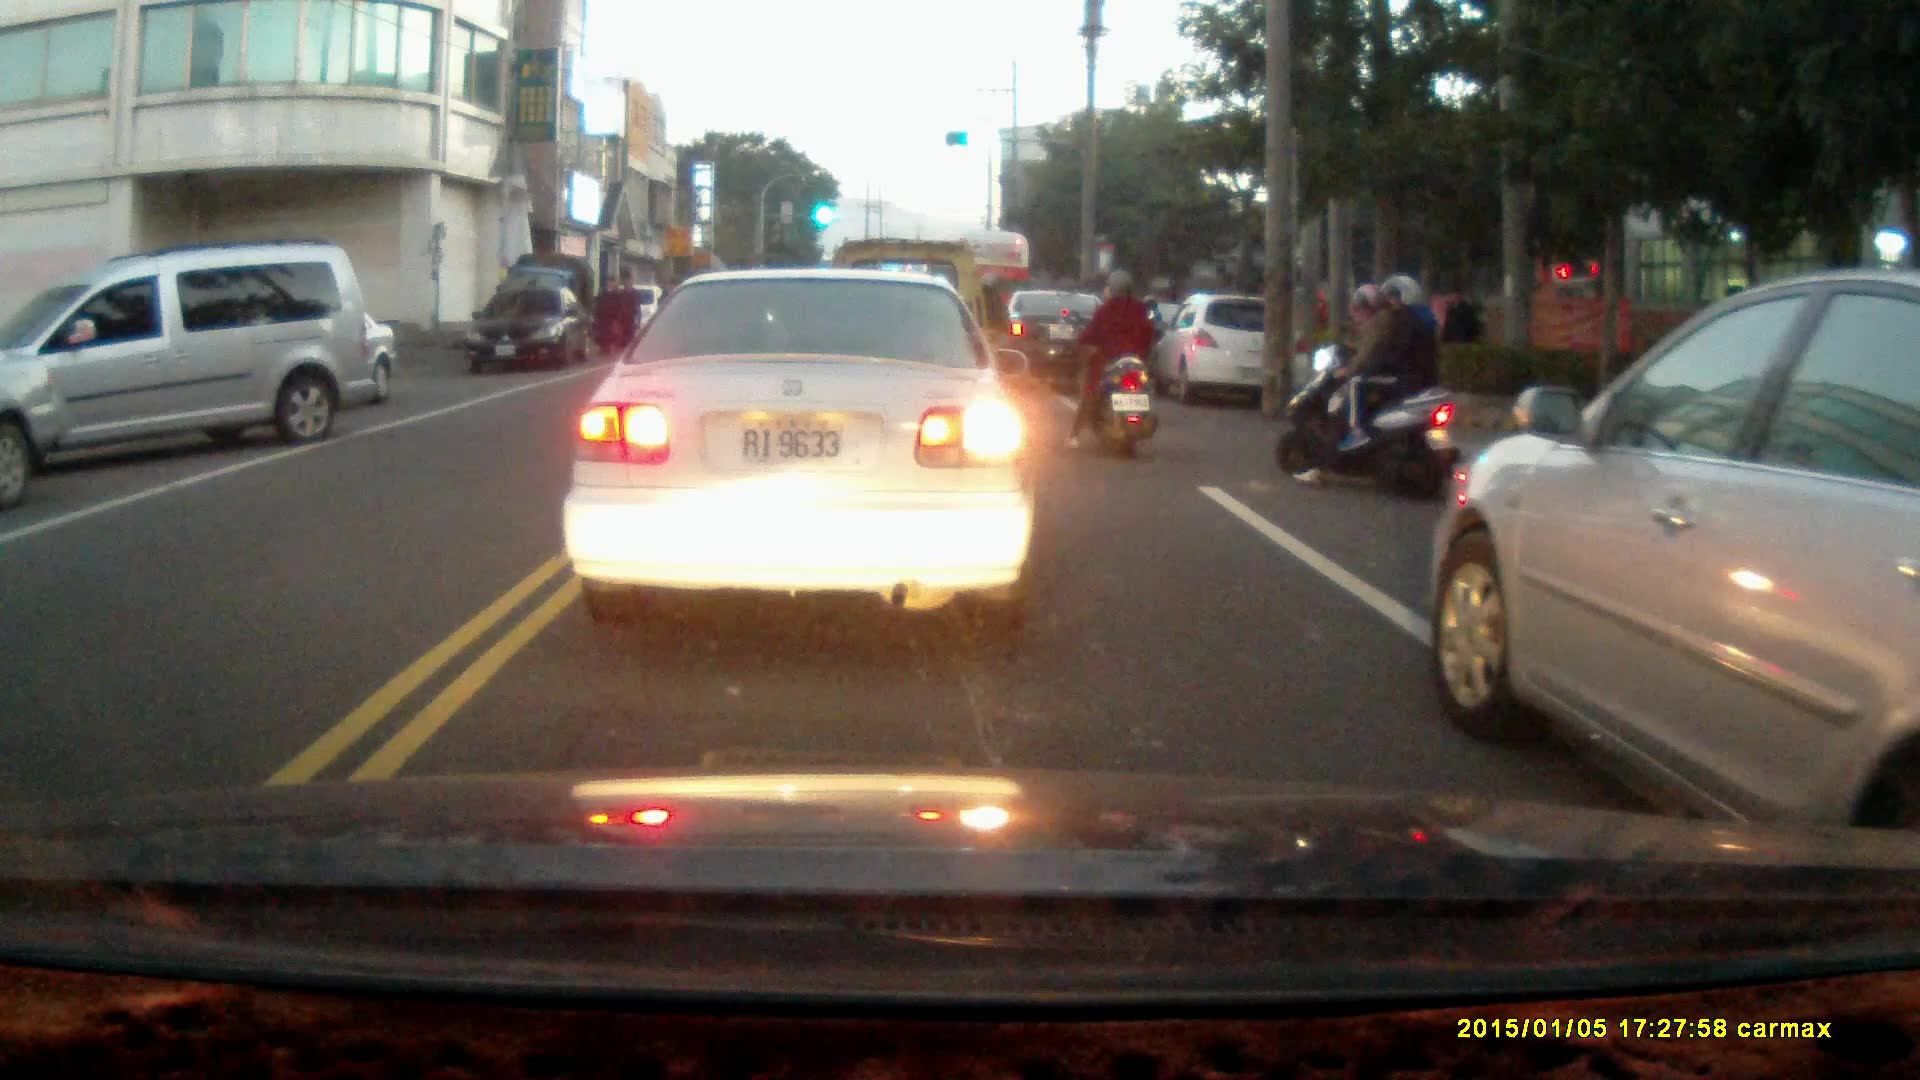pedestrian: (1437, 280, 1480, 378), (591, 274, 623, 360), (615, 273, 642, 356)
rider: (1271, 274, 1459, 497), (1064, 265, 1160, 458)
vehicle: (1435, 271, 1916, 847), (571, 266, 1044, 622), (1, 244, 379, 477), (1152, 291, 1301, 402), (986, 286, 1124, 393), (476, 283, 592, 375), (1, 349, 70, 501)
